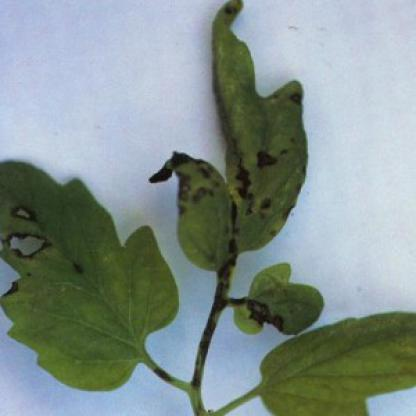Tomato leaf bacterial spot: (4, 151, 177, 395), (154, 1, 298, 278)
